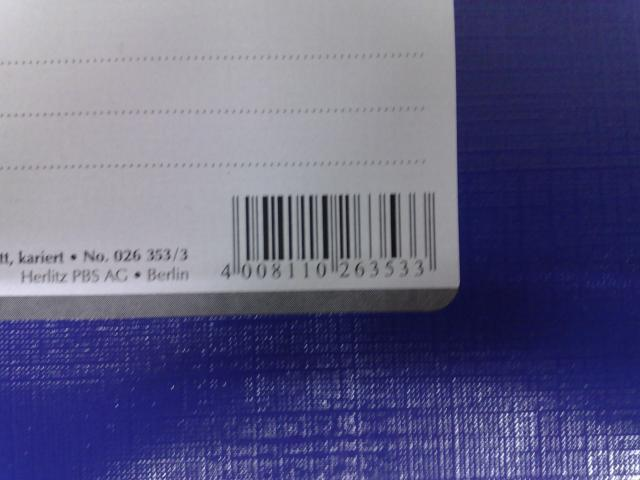Barkod: (228, 191, 438, 258)
